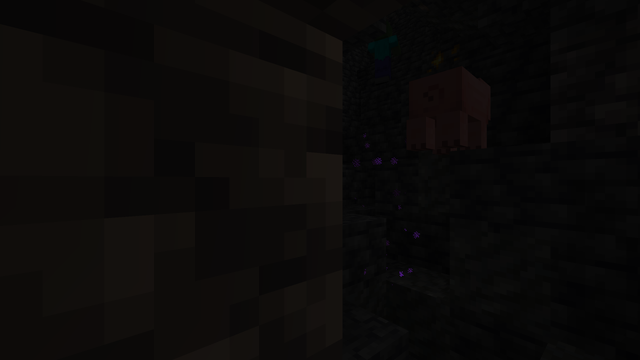cochons: (400, 60, 500, 154)
zombies: (370, 22, 394, 85)
